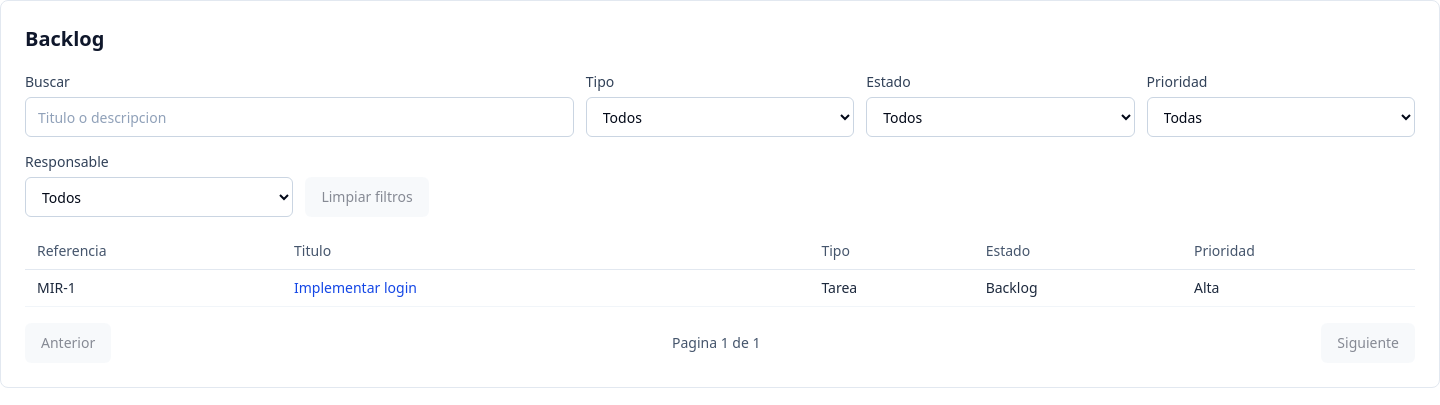
Test: WorkItemBacklog › busca por texto y envia q desde la primera pagina
This screenshot has width=1440, height=405.
Check: the link "Implementar login" is shown, box x1=294 y1=278 x2=417 y2=297
In the search field labelled "Buscar": [299, 117] box x1=25 y1=97 x2=574 y2=137, type "login"
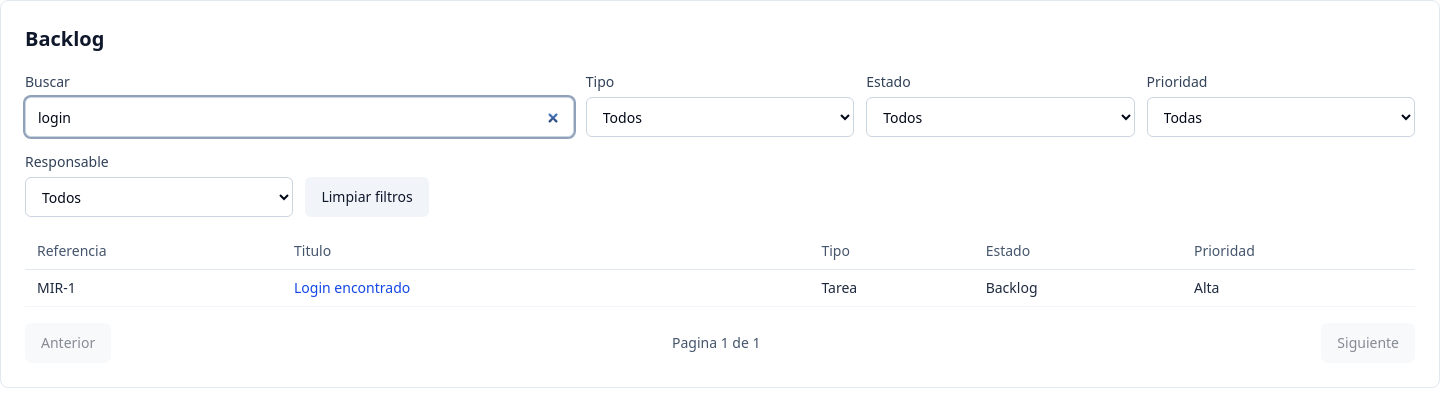
Check: the link "Login encontrado" is shown, box x1=294 y1=278 x2=410 y2=297
